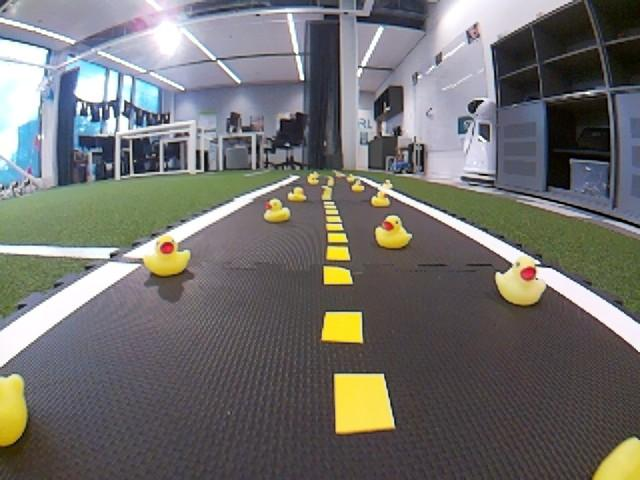Duckies: (493, 252, 548, 306), (0, 374, 39, 444), (592, 433, 636, 480), (143, 235, 189, 275), (375, 212, 410, 251), (261, 197, 291, 223), (370, 192, 392, 207), (288, 188, 307, 202), (349, 177, 362, 192), (379, 177, 394, 190), (306, 172, 322, 184)
